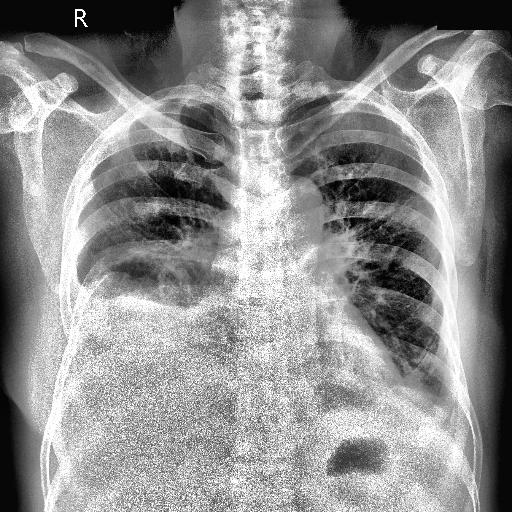10- Pleural effusion: (58, 269, 236, 406), (65, 250, 197, 430), (58, 258, 204, 356), (429, 363, 470, 438), (428, 367, 466, 422), (426, 376, 465, 424)
11- Pleural thickening: (426, 376, 465, 424)
13- Pulmonary fibrosis: (126, 154, 162, 224)
7- Lung Opacity: (88, 240, 232, 298), (82, 270, 194, 306), (90, 270, 192, 306)
9- Other lesion: (126, 154, 162, 224)
